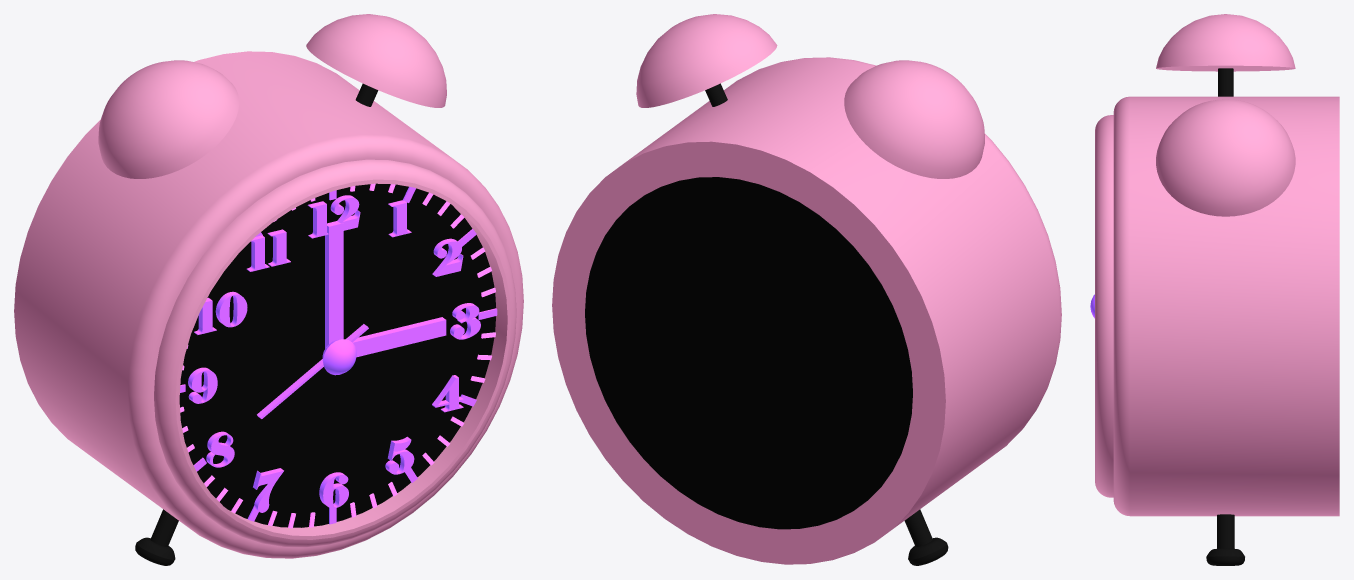
The picture shows the model from 3 angles, left to right: view 1: azimuth 30°, elevation 25°; view 2: azimuth 150°, elevation 25°; view 3: azimuth 270°, elevation 25°; orthographic projection. The views are drawn at different scales.
Visible parts, largest first — view 1: Line001, Cylinder001, Line002, Line003, Box063, Box064, Line004, Text007, Text005, Text006, Sphere001, Text003 (+8 smaller); view 2: Line001, Cylinder001, Line002, Line003, Line004; view 3: Line001, Line003, Line002, Line005, Object001.
Part boxes in pixels (x1,y1,x2,y2): Line001: [14, 51, 523, 558]; Cylinder001: [179, 183, 495, 527]; Line002: [98, 60, 239, 178]; Line003: [306, 14, 446, 107]; Box063: [325, 221, 343, 348]; Box064: [352, 317, 446, 357]; Line004: [135, 509, 178, 565]; Text007: [194, 291, 247, 334]; Text005: [307, 195, 360, 238]; Text006: [246, 229, 290, 271]; Sphere001: [322, 339, 356, 375]; Text003: [432, 238, 463, 276]; Line001: [552, 57, 1061, 564]; Cylinder001: [585, 177, 912, 529]; Line002: [844, 60, 984, 178]; Line003: [636, 14, 777, 107]; Line004: [904, 509, 948, 565]; Line001: [1095, 96, 1339, 516]; Line003: [1156, 99, 1295, 216]; Line002: [1156, 14, 1295, 71]; Line005: [1206, 514, 1244, 565]; Object001: [1218, 68, 1233, 96].
Bounding box in the file's own units: 600 × 716 × 357.
